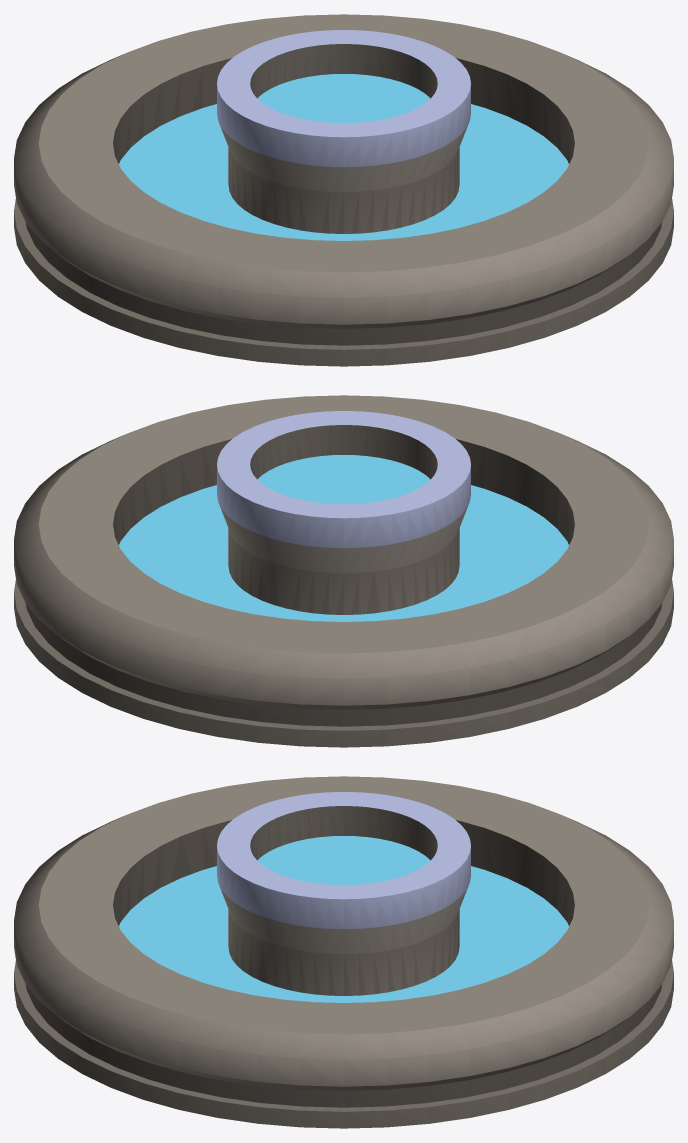
File: kenney_town_fountain_round_detail.glb
3 renders of one model, top to bottom at view 1: azimuth 30°, elevation 25°; view 2: azimuth 150°, elevation 25°; view 3: azimuth 270°, elevation 25°, orthographic.
Visible parts, largest first — view 1: stone, object 2; view 2: stone, object 2; view 3: stone, object 2.
Boxes of the visible parts, left/top/right/bottom form: stone: left=14, top=14, right=673, bottom=366; object 2: left=119, top=30, right=568, bottom=240; stone: left=14, top=395, right=673, bottom=747; object 2: left=119, top=411, right=568, bottom=621; stone: left=14, top=776, right=673, bottom=1128; object 2: left=119, top=792, right=568, bottom=1002.
Bounding box in the file's own units: 2 × 0.48 × 2.
